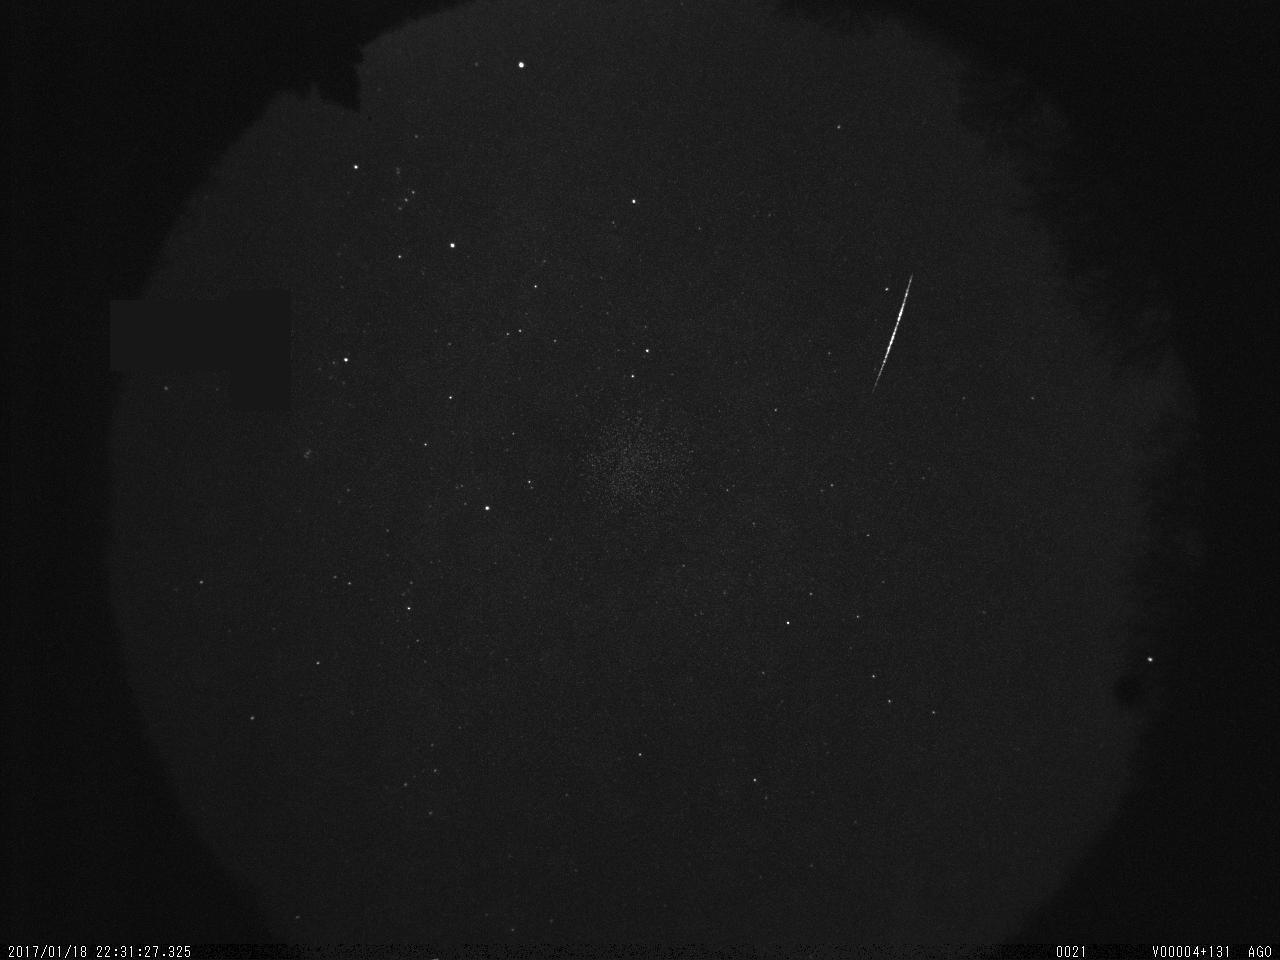Meteor: (870, 273, 918, 394)
